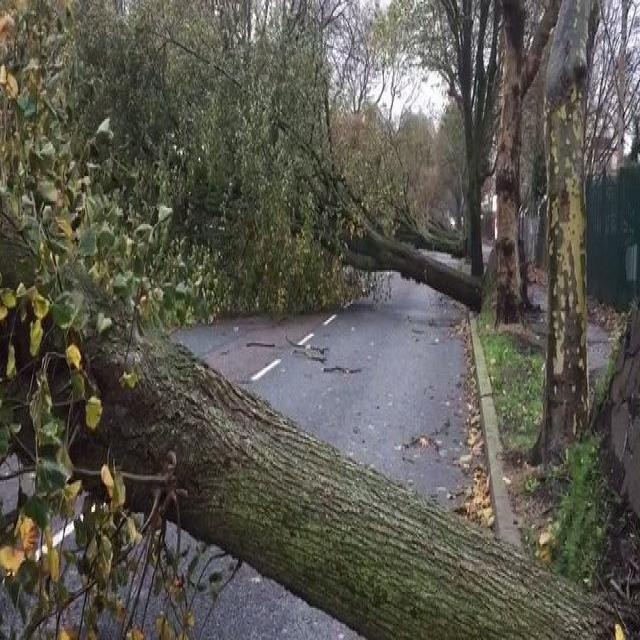fallen_object: (0, 185, 497, 640), (259, 164, 506, 323), (393, 198, 463, 262)
